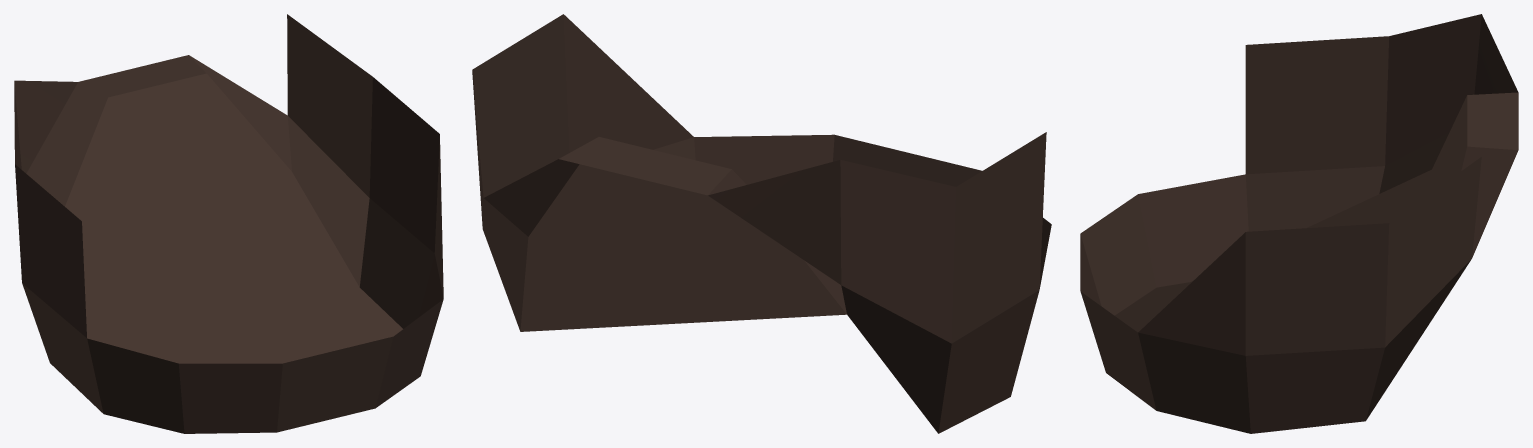
File: lwf_hair_male_default_under_cap_v1.glb
3 renders of one model, left to right at view 1: azimuth 30°, elevation 25°; view 2: azimuth 150°, elevation 25°; view 3: azimuth 270°, elevation 25°, orthographic. The views are drawn at different scales.
Visible parts, largest first — view 1: LWF_Hair_DefaultUnderCap; view 2: LWF_Hair_DefaultUnderCap; view 3: LWF_Hair_DefaultUnderCap.
Boxes of the visible parts, left/top/right/bottom form: LWF_Hair_DefaultUnderCap: left=14, top=14, right=443, bottom=433; LWF_Hair_DefaultUnderCap: left=472, top=14, right=1051, bottom=433; LWF_Hair_DefaultUnderCap: left=1080, top=14, right=1518, bottom=433.
Size of the model in its own units: 0.2218 by 0.1481 by 0.2196.
Materials: 1 (1 with a texture image).
